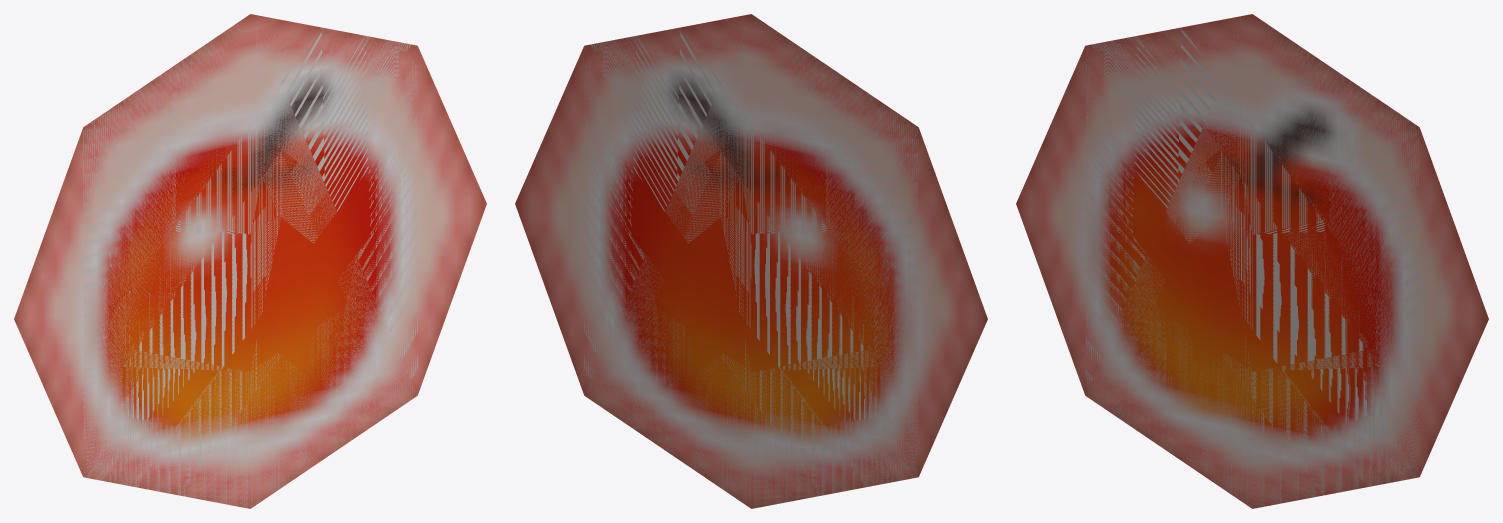
Rendered from jsf_Flyer_AppleCandy_08.fbx.
The picture shows the model from 3 angles, left to right: view 1: azimuth 30°, elevation 25°; view 2: azimuth 150°, elevation 25°; view 3: azimuth 330°, elevation 25°; orthographic projection.
Visible parts, largest first — view 1: jsf_Flyer_AppleCandy_08; view 2: jsf_Flyer_AppleCandy_08; view 3: jsf_Flyer_AppleCandy_08.
Part boxes in pixels (x1,y1,x2,y2): jsf_Flyer_AppleCandy_08: [14, 14, 486, 508]; jsf_Flyer_AppleCandy_08: [515, 14, 987, 508]; jsf_Flyer_AppleCandy_08: [1016, 14, 1488, 508].
Bounding box in the file's own units: 19.41 × 19.41 × 0.
